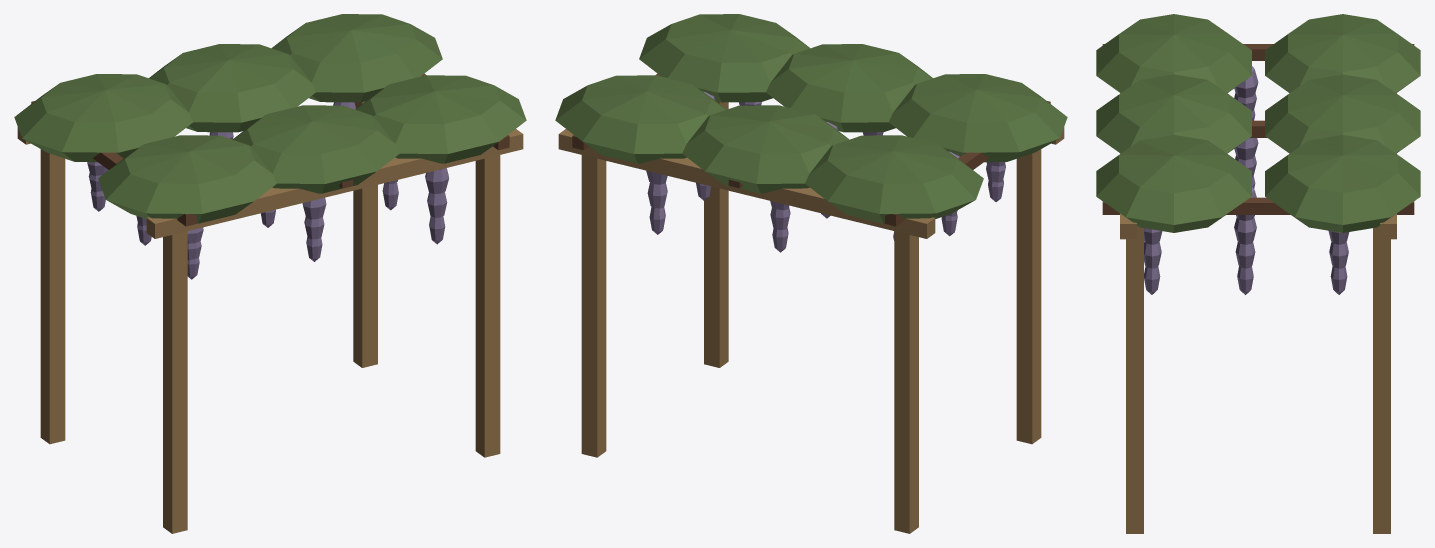
The model's file is Environment_Feature_Rural_WisteriaPergola_001.glb.
The picture shows the model from 3 angles, left to right: view 1: azimuth 30°, elevation 25°; view 2: azimuth 150°, elevation 25°; view 3: azimuth 270°, elevation 25°; orthographic projection.
Visible parts, largest first — view 1: Environment_Feature_Rural_WisteriaPergola_001; view 2: Environment_Feature_Rural_WisteriaPergola_001; view 3: Environment_Feature_Rural_WisteriaPergola_001.
Boxes of the visible parts, <box> form: Environment_Feature_Rural_WisteriaPergola_001: <box>14,14,526,533</box>; Environment_Feature_Rural_WisteriaPergola_001: <box>555,14,1067,533</box>; Environment_Feature_Rural_WisteriaPergola_001: <box>1096,14,1420,533</box>.
Bounding box in the file's own units: 3.7 × 3.04 × 2.5.
